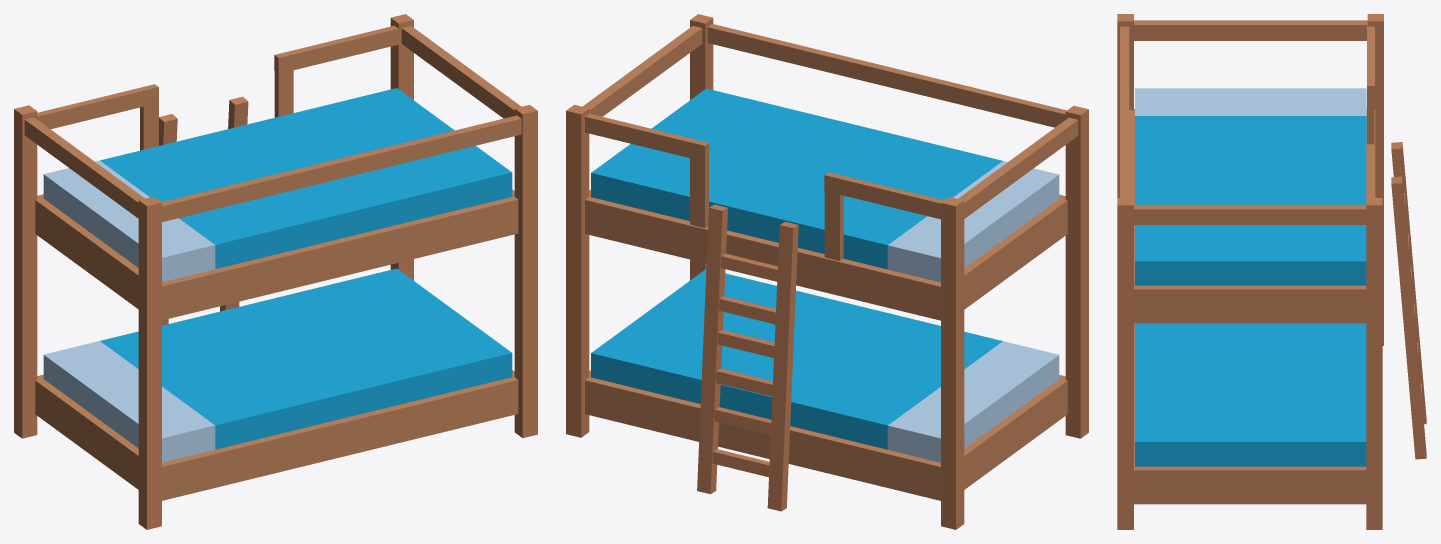
File: bunk_bed.fbx
The picture shows the model from 3 angles, left to right: view 1: azimuth 30°, elevation 25°; view 2: azimuth 150°, elevation 25°; view 3: azimuth 270°, elevation 25°; orthographic projection.
Visible parts, largest first — view 1: Cube.016, Cube.017, Cube.011, Cube.013, Cube.010, Cube.012, Cube.015, Cube.014, Cube.019, Cube.018, Cube.009, Cube.020 (+2 smaller); view 2: Cube.017, Cube.016, Cube.012, Cube.011, Cube.013, Cube.009, Cube.023, Cube.024, Cube.015, Cube.014, Cube.019, Cube.018 (+9 smaller); view 3: Cube.017, Cube.016, Cube.009, Cube.010, Cube.015, Cube.014, Cube.024, Cube.012, Cube.013, Cube.023, Cube.011, Cube.018 (+1 smaller).
Part boxes in pixels (box(x1,y1,x2,y2)): Cube.016: box(35, 268, 518, 500); Cube.017: box(35, 88, 518, 320); Cube.011: box(138, 196, 161, 529); Cube.013: box(162, 115, 521, 222); Cube.010: box(514, 105, 537, 437); Cube.012: box(14, 105, 37, 438); Cube.015: box(24, 117, 144, 218); Cube.014: box(401, 26, 521, 118); Cube.019: box(274, 25, 398, 73); Cube.018: box(35, 84, 158, 129); Cube.009: box(390, 14, 413, 280); Cube.020: box(274, 70, 293, 117); Cube.017: box(585, 88, 1067, 320); Cube.016: box(585, 269, 1067, 500); Cube.012: box(941, 197, 964, 529); Cube.011: box(1065, 105, 1088, 438); Cube.013: box(707, 24, 1066, 127); Cube.009: box(566, 104, 589, 437); Cube.023: box(767, 221, 798, 511); Cube.024: box(697, 204, 727, 494); Cube.015: box(958, 117, 1078, 218); Cube.014: box(583, 26, 702, 116); Cube.019: box(585, 113, 709, 161); Cube.018: box(824, 172, 943, 219); Cube.017: box(1129, 88, 1375, 323); Cube.016: box(1134, 323, 1366, 504); Cube.009: box(1366, 198, 1382, 529); Cube.010: box(1117, 198, 1133, 529); Cube.015: box(1134, 20, 1367, 40); Cube.014: box(1134, 204, 1366, 224); Cube.024: box(1391, 176, 1426, 459); Cube.012: box(1367, 14, 1383, 345); Cube.013: box(1120, 26, 1129, 197); Cube.023: box(1391, 142, 1426, 424); Cube.011: box(1117, 14, 1133, 197); Cube.018: box(1367, 25, 1374, 101).
Bounding box in the file's own units: 161 × 129 × 110.
